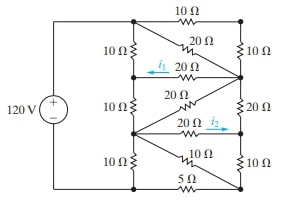dc: (37, 92, 73, 129)
resistor: (174, 39, 199, 59), (124, 152, 145, 174), (126, 96, 144, 120), (232, 152, 247, 176), (177, 153, 199, 169), (175, 16, 204, 28), (234, 39, 247, 64), (233, 97, 248, 118), (177, 100, 201, 113), (178, 128, 202, 141), (176, 72, 203, 83), (128, 38, 139, 63), (176, 185, 202, 195)
